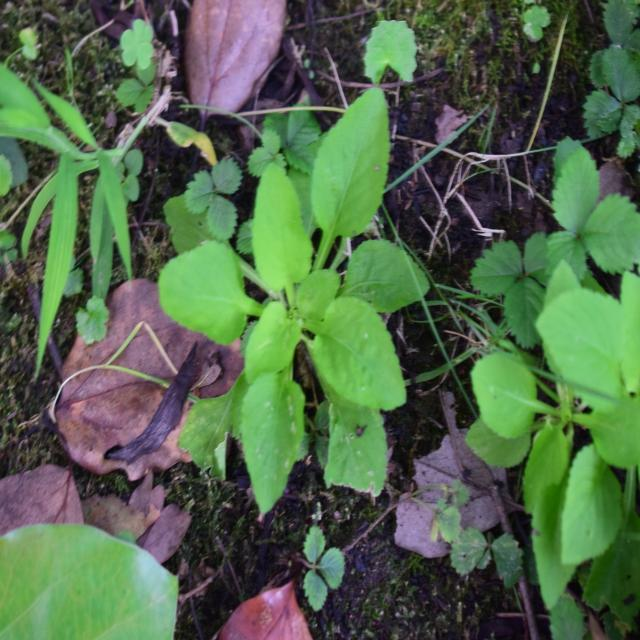Viola: (141, 120, 445, 492)
